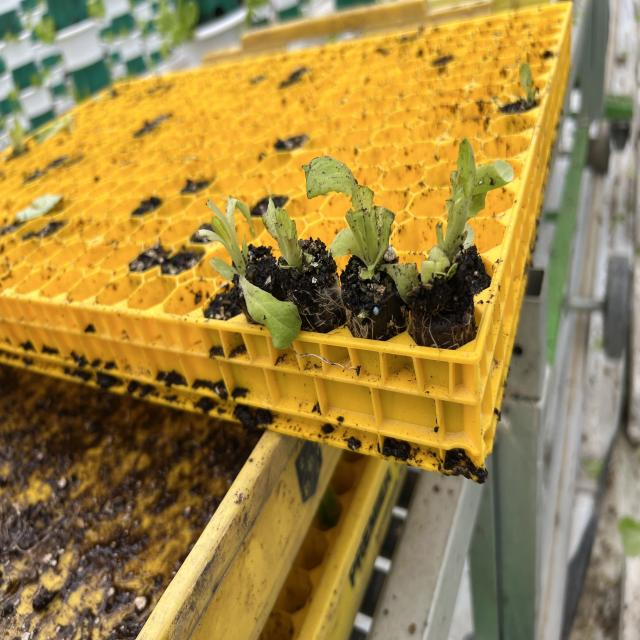bok-choi: (199, 197, 301, 348), (421, 138, 514, 283), (302, 157, 395, 280), (262, 195, 312, 273), (386, 265, 419, 302)
soil-base: (409, 245, 491, 350), (280, 238, 345, 333), (340, 257, 409, 340), (245, 245, 285, 300), (231, 275, 256, 323)
